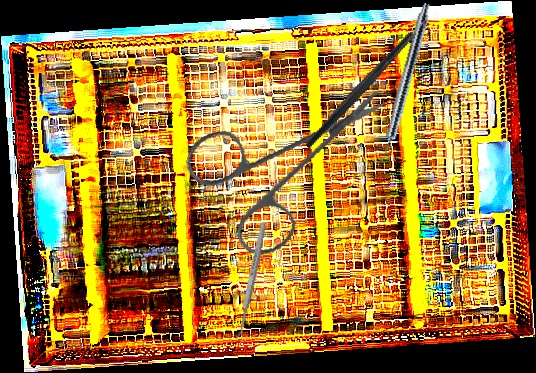Chopper: (273, 3, 461, 151)
Handpiece: (375, 1, 433, 166)
Iris Scissors: (171, 57, 389, 274)
Surgical Spoon: (234, 221, 268, 344)
